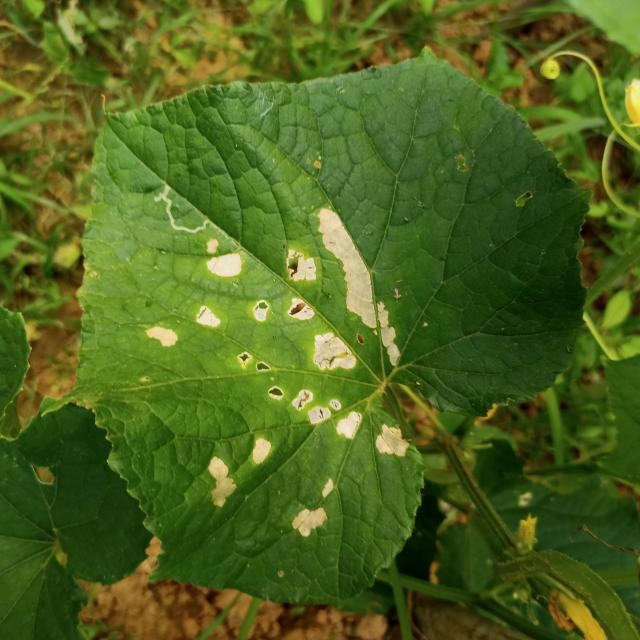disease_cucumber: (145, 208, 411, 460), (209, 436, 272, 507), (293, 479, 337, 535)
